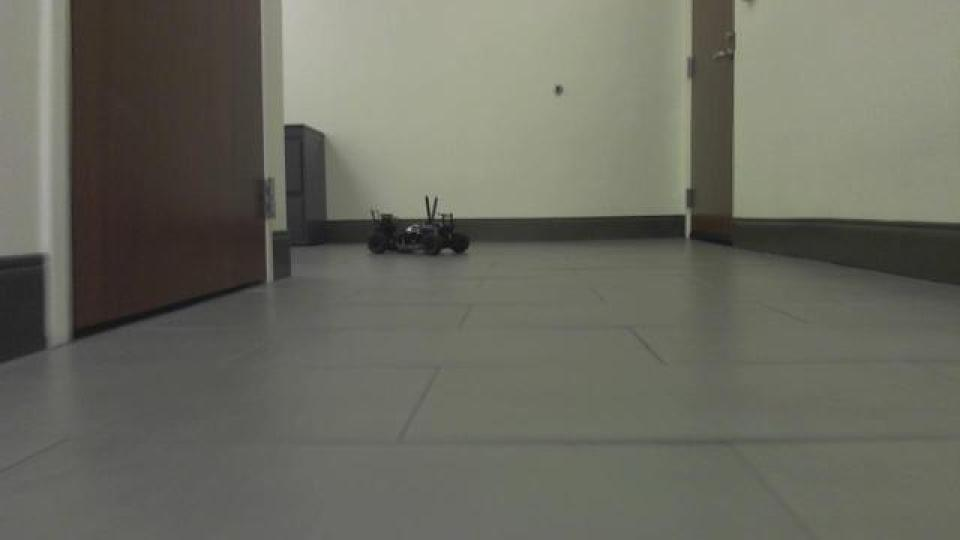car: (362, 192, 472, 260)
